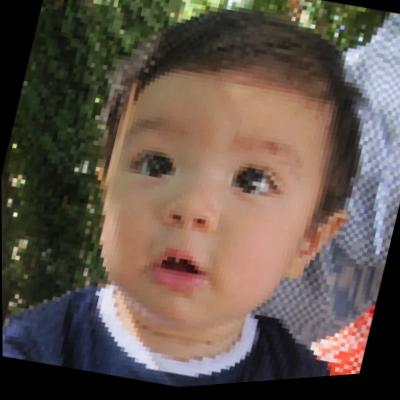surprise: (75, 42, 337, 353)
